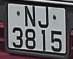1: (38, 29, 48, 53)
3: (12, 26, 25, 50)
5: (49, 29, 64, 54)
8: (24, 28, 37, 51)
J: (35, 7, 53, 28)
N: (23, 5, 36, 29)
